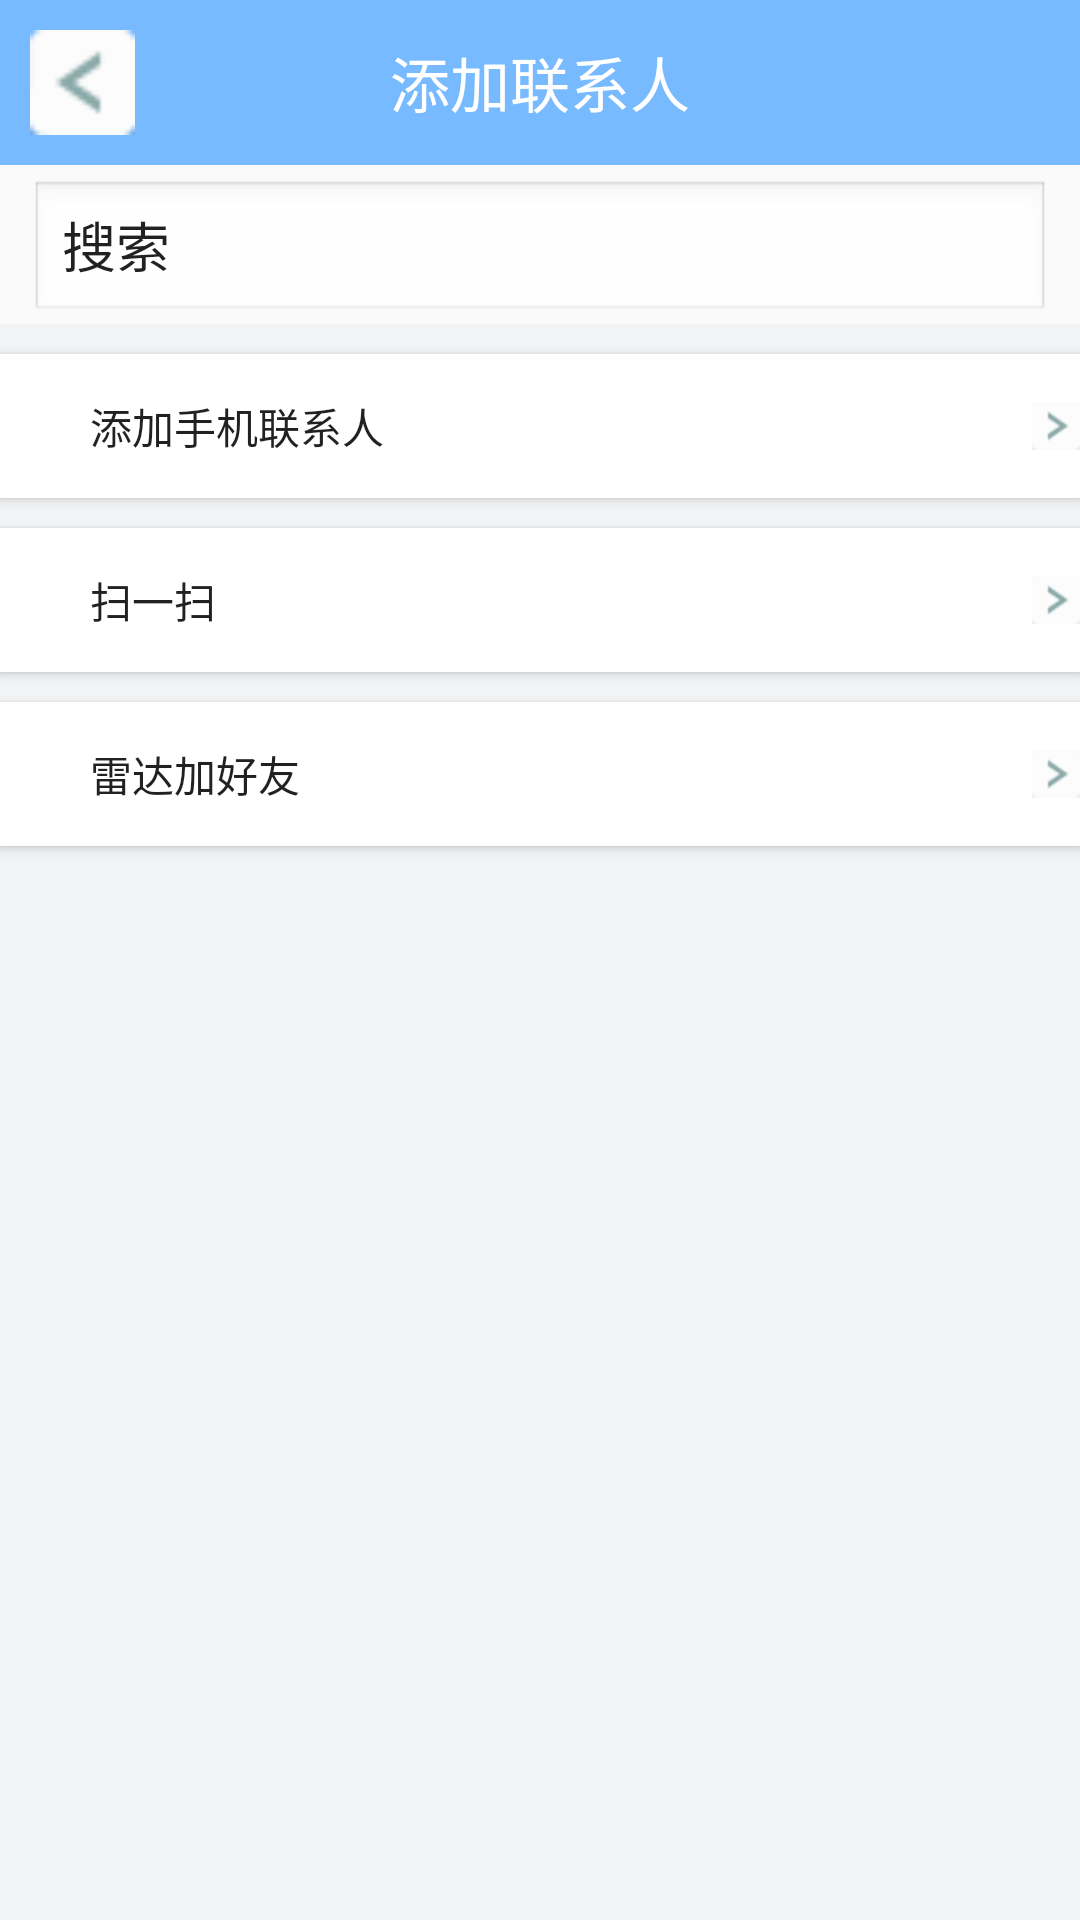

Named icons in this screenshot (1080×1920) and their bounding boxes, (x1, y1, x2, y2):
left: (30, 30, 135, 135)
